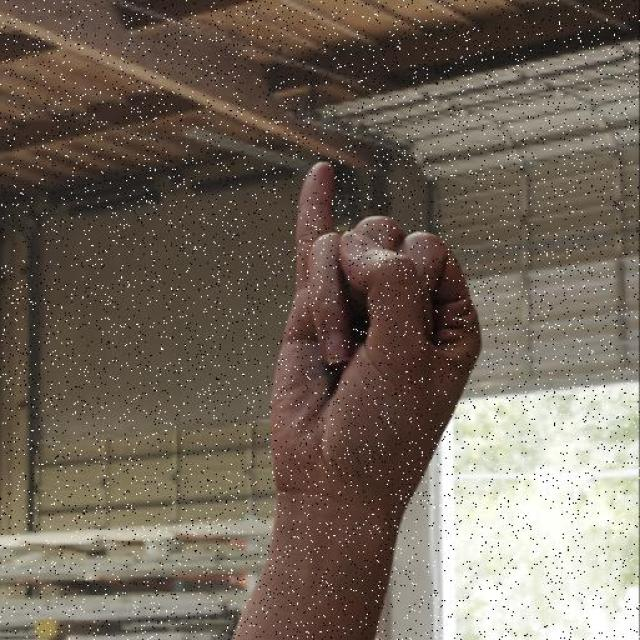I: (194, 123, 506, 542)
